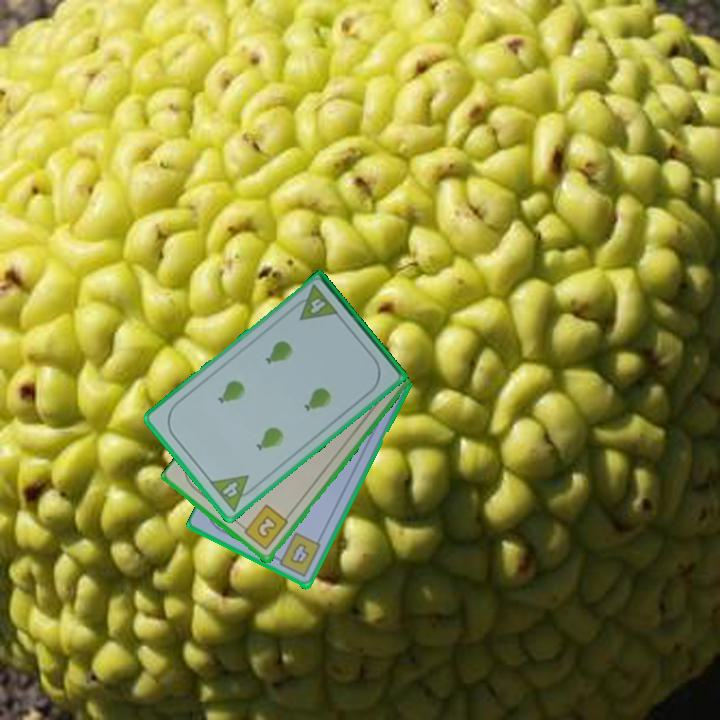2b: (237, 501, 291, 553)
4b: (271, 530, 324, 581)
4p: (206, 471, 260, 514), (289, 281, 341, 324)
